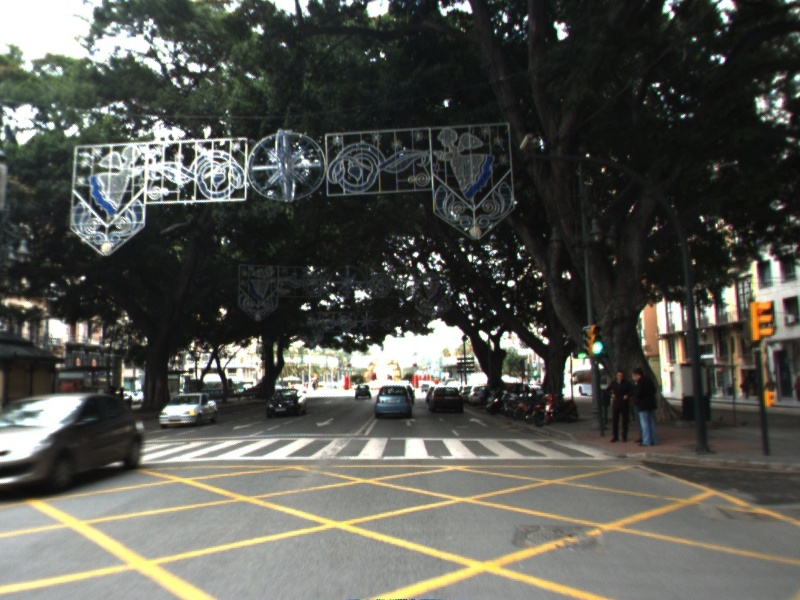STRAIGHT: (467, 415, 489, 429), (398, 416, 418, 428)
